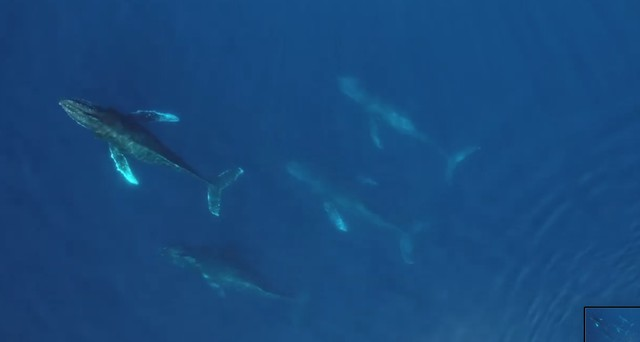whale: (51, 94, 249, 222), (331, 69, 492, 199), (279, 156, 443, 266), (149, 236, 331, 332)
